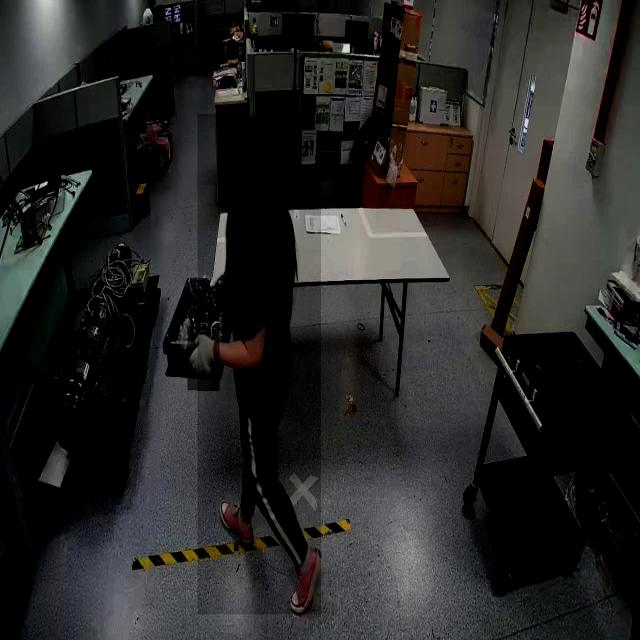hand_glove: (187, 326, 219, 391)
head_nohelmet: (233, 115, 279, 157)
person: (197, 114, 321, 615)
shoes: (285, 542, 324, 616), (219, 493, 255, 549)
